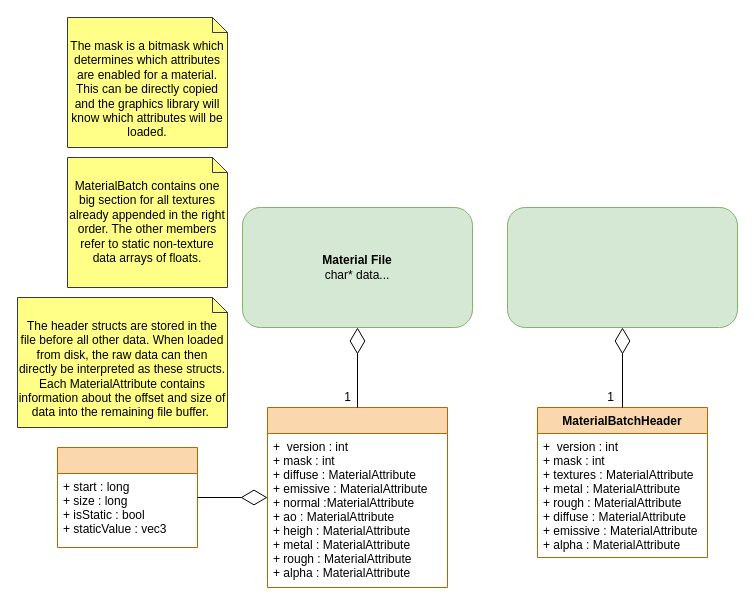
Some shapes in this 755 by 608 pixel diagram are drawn without their labels. Each missing label, with the box of its shape:
Material Batch File char* data...: (506, 206, 738, 328)
MaterialAttribute: (56, 446, 198, 548)
MaterialHeader: (266, 406, 448, 588)
